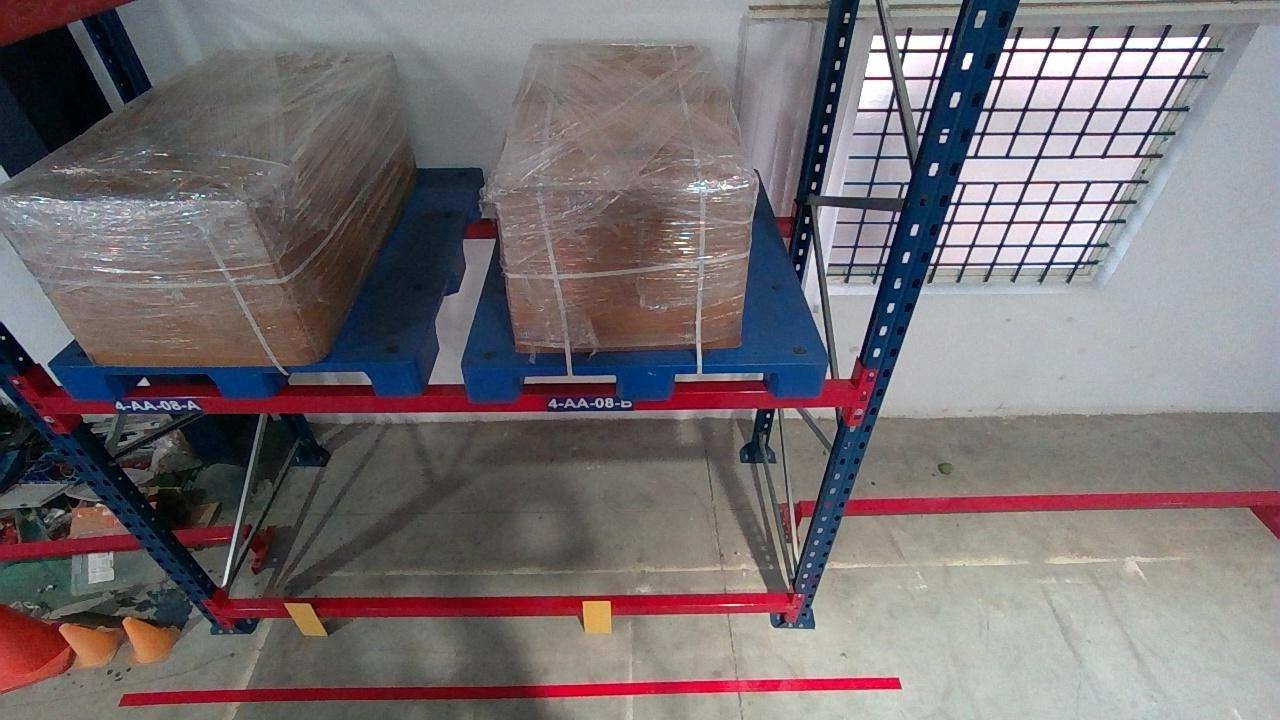h_rack: (40, 387, 859, 413), (220, 602, 789, 619)
orange_strip: (281, 601, 327, 635), (581, 600, 612, 632)
red_line: (117, 676, 904, 702)
small_pallet: (464, 362, 832, 399), (56, 362, 418, 398)
